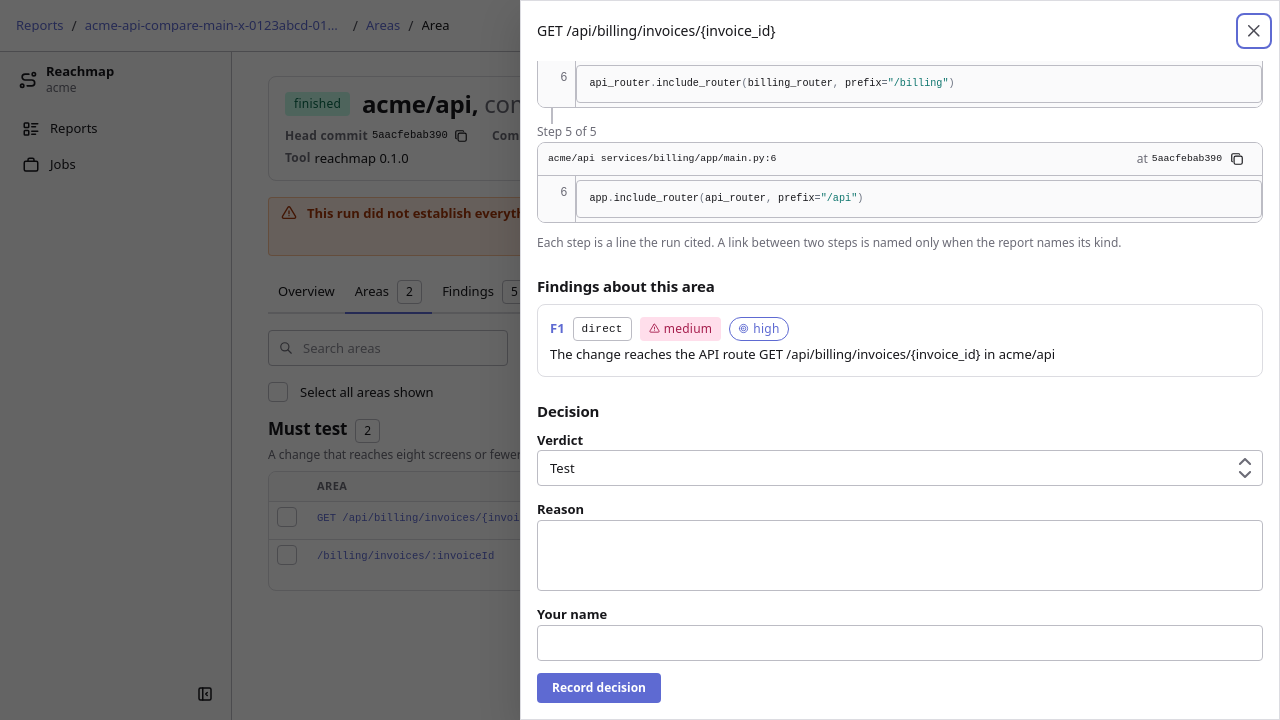
Test: recording a decision › asks for the verdict, a reason for a skip and a name, and posts exactly the decision
The image size is (1280, 720).
(page scrolled)
Expected: the tab "Areas 2" is shown, [345, 272, 432, 314]
Expected: the table is shown, [269, 472, 1243, 578]
Select "Skip: risk accepted, not tested" in the dropdown labelled "Verdict" at [900, 468], box [537, 450, 1263, 486]
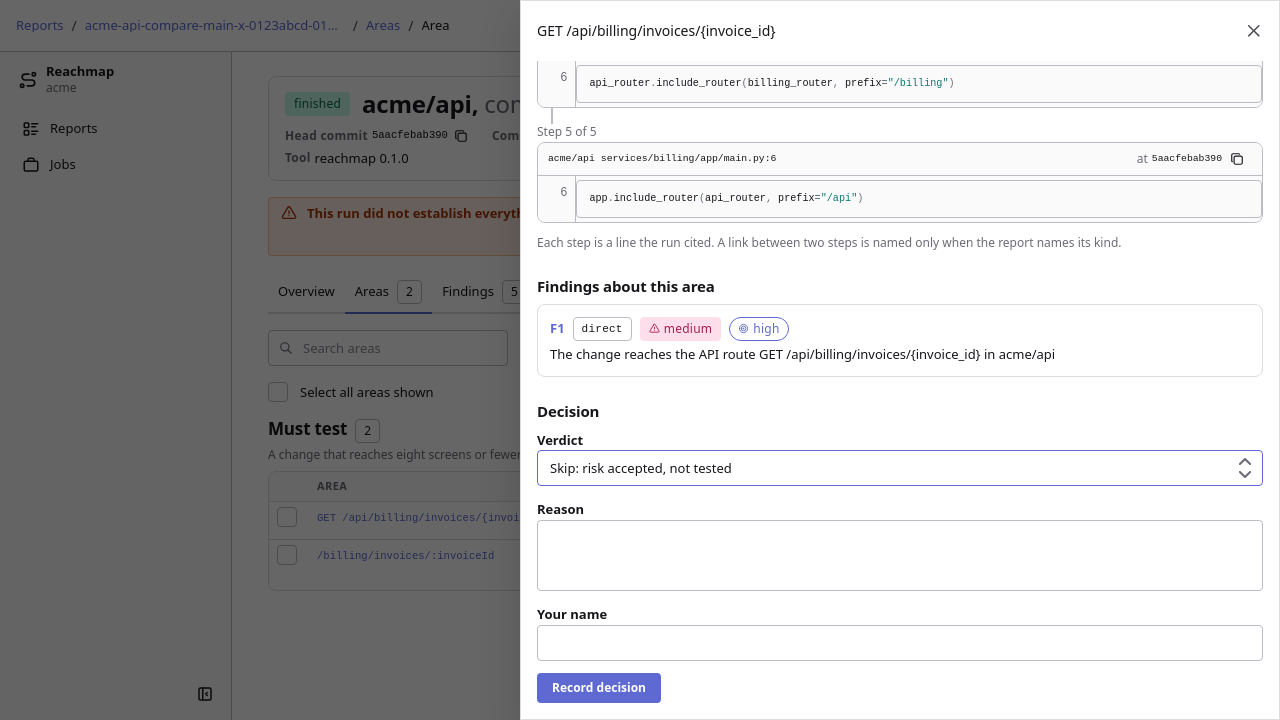
Click the button "Record decision" at [599, 688], box [537, 673, 661, 703]
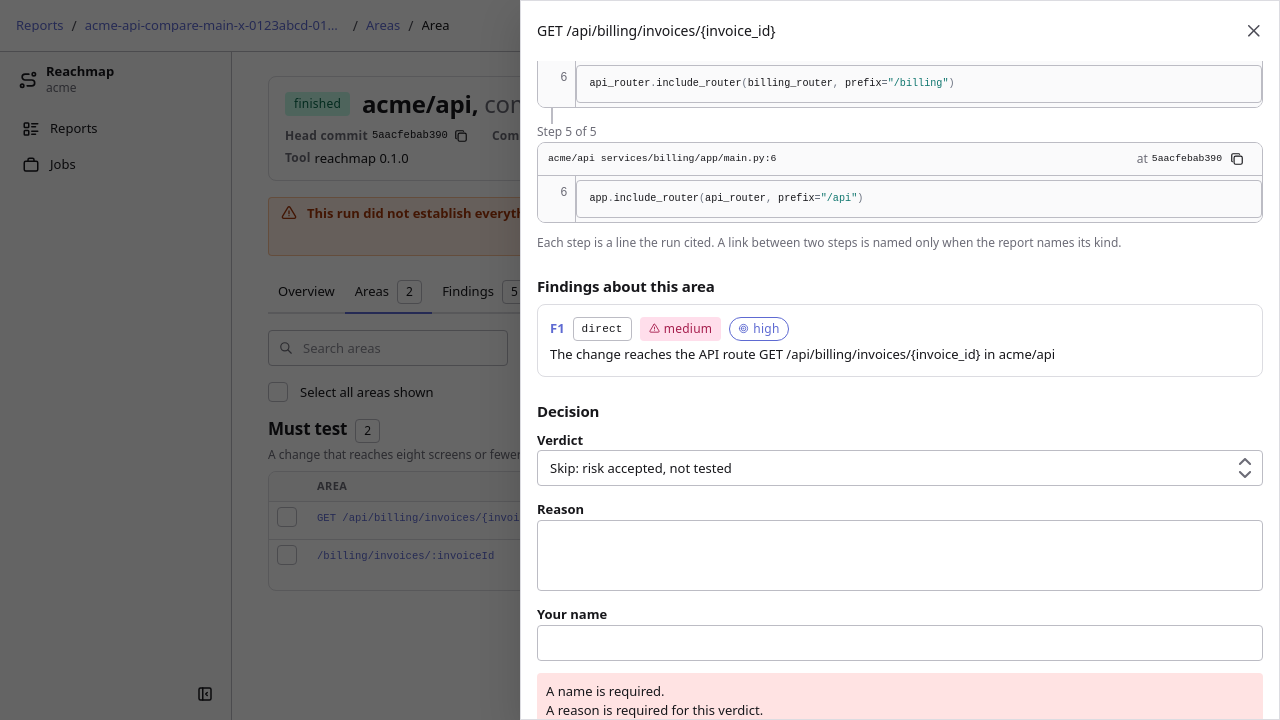
Type "retired in this release" into the text box labelled "Reason" at [900, 556], box [537, 520, 1263, 591]
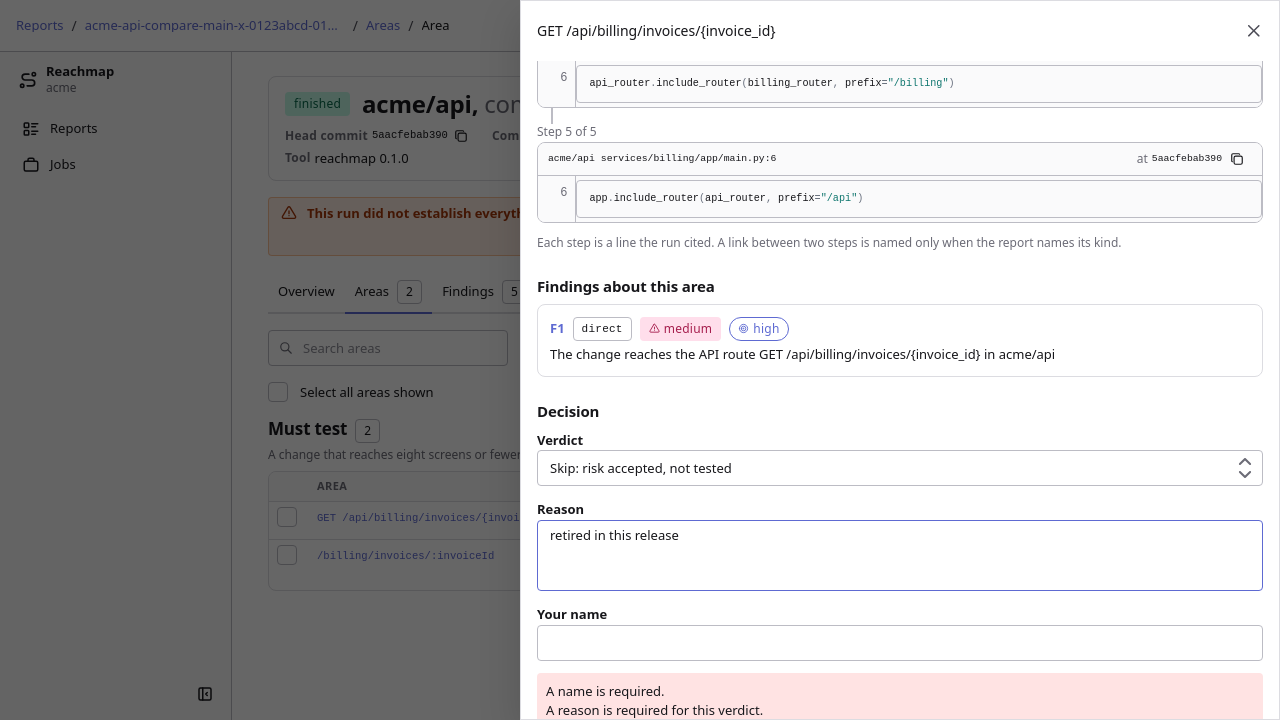
Type "  Quinn " into the field labelled "Your name" at [900, 643], box [537, 625, 1263, 661]
(page scrolled)
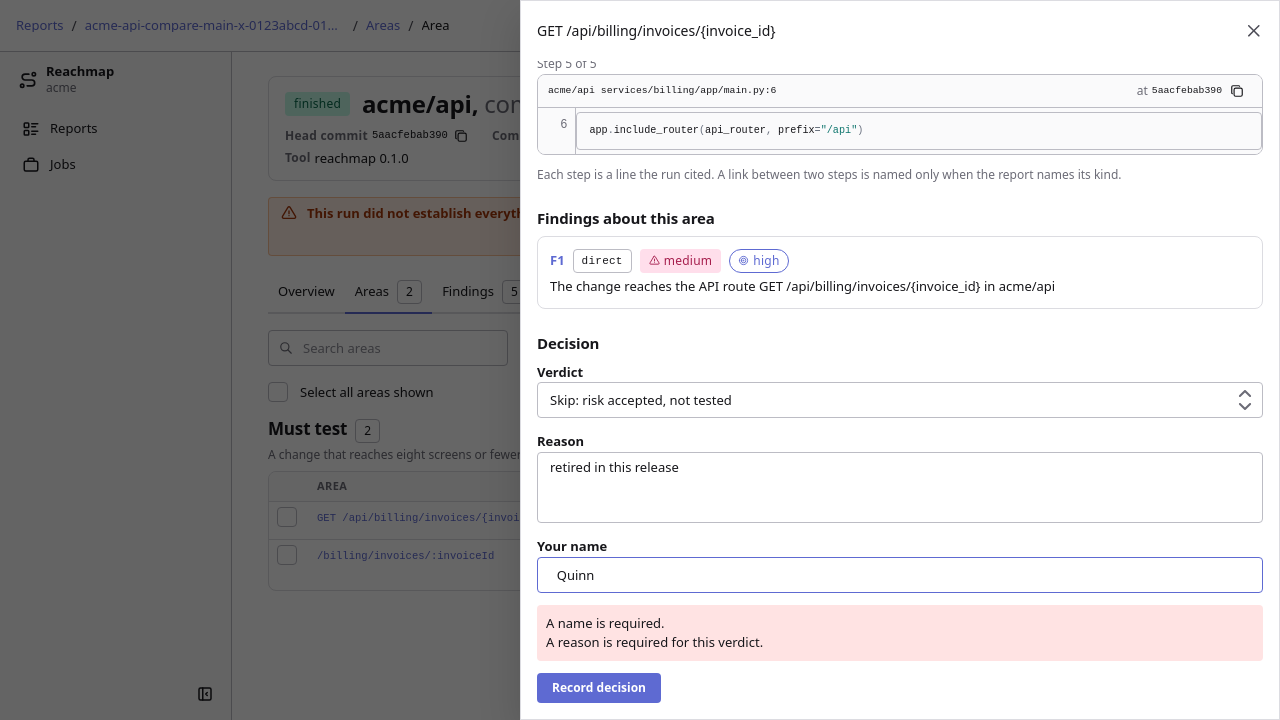
Click the button "Record decision" at [599, 688], box [537, 673, 661, 703]
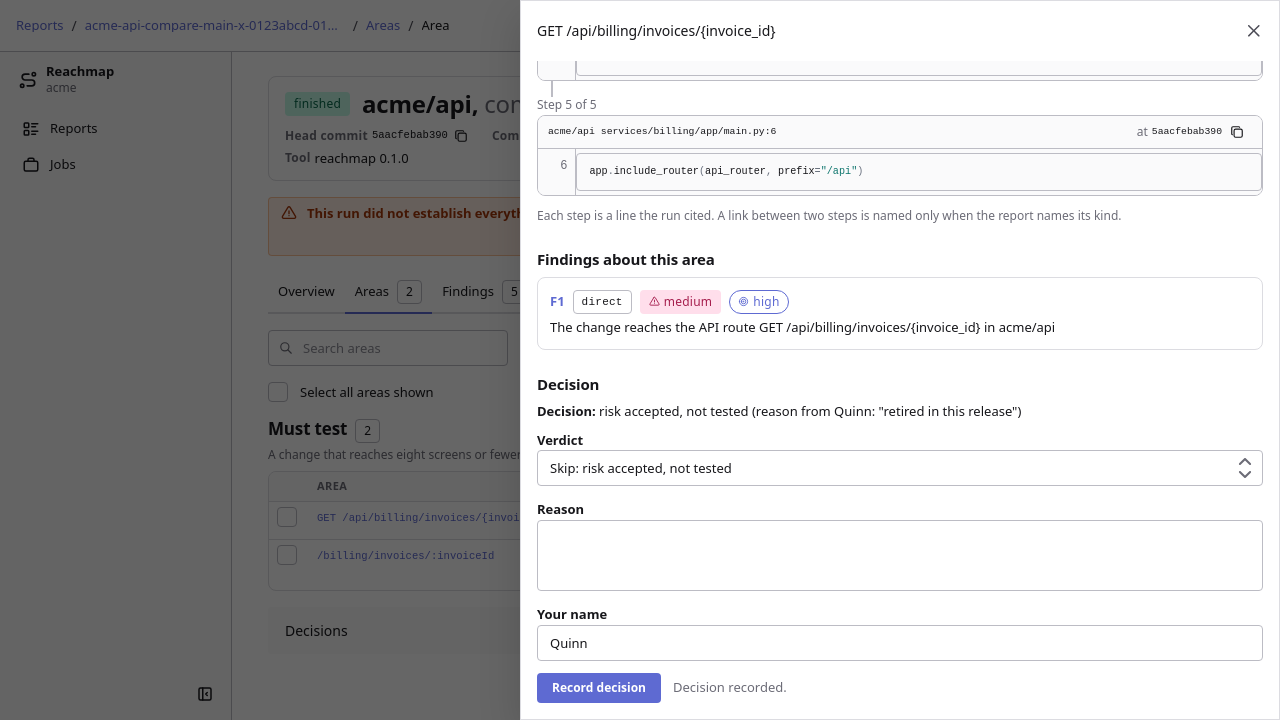
Expected: the text "Decision recorded." is shown, [673, 678, 787, 697]
